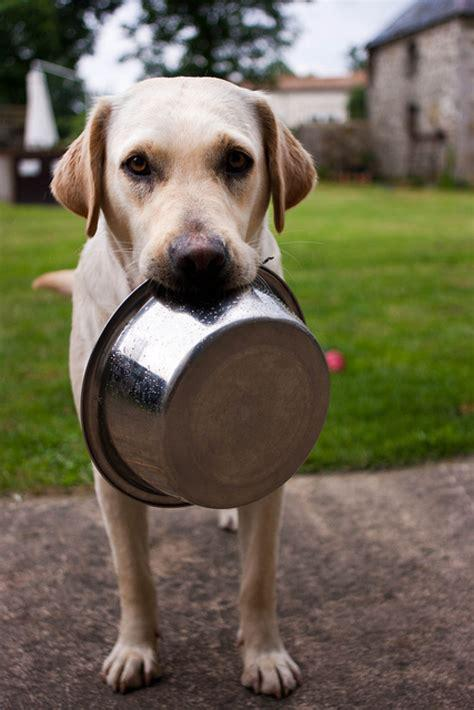dog: (36, 78, 313, 694)
